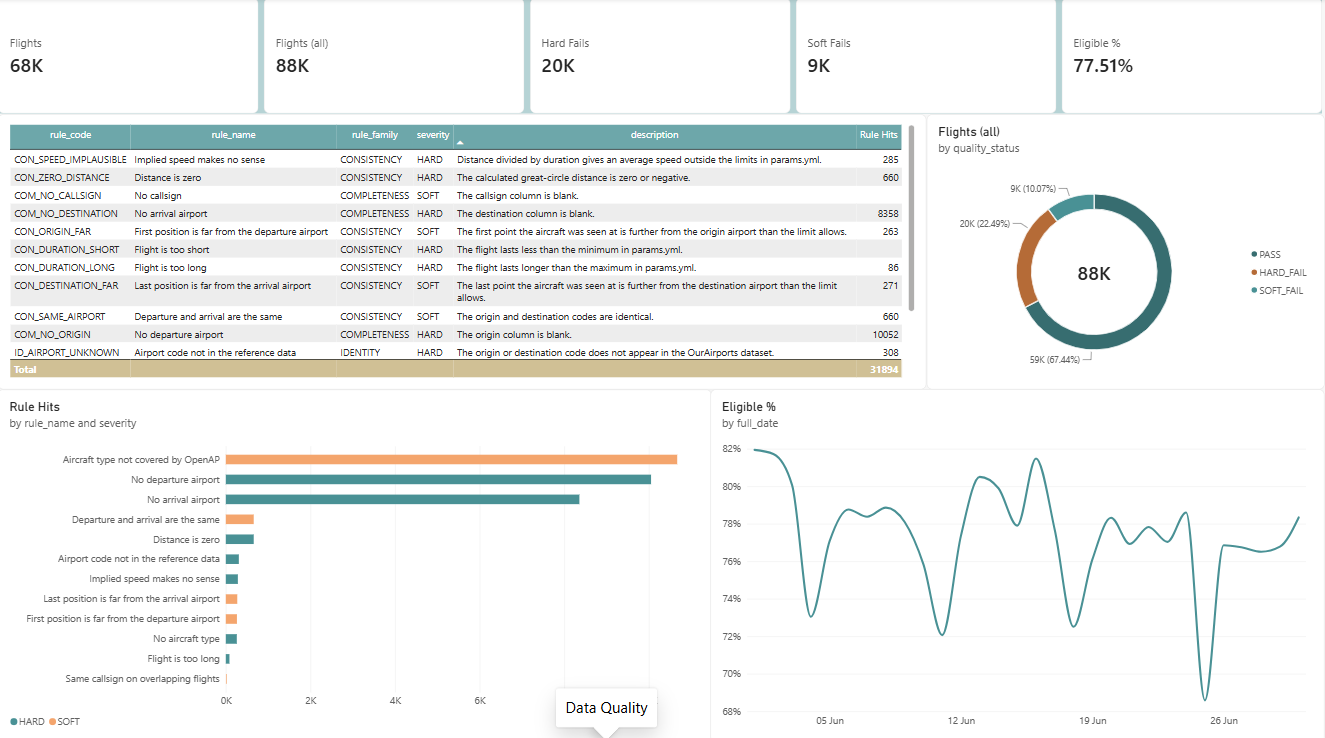

The page's visual inventory and layout, read from the dashboard file:
{"tool":"powerbi","page":{"name":"Data Quality","canvas":[1920,1080],"ordinal":4},"visuals":[{"type":"cardVisual","fields":{"Data":["_Measures.Flights","_Measures.Flights (all)","_Measures.Hard Fails","_Measures.Soft Fails","_Measures.Eligible %"]},"box":[0,0,1920.4,167.8],"z":0},{"type":"donutChart","fields":{"Category":["v_flight_kpi.quality_status"],"Y":["_Measures.Flights (all)"]},"box":[1344.1,168.3,576.3,398.4],"z":1},{"type":"barChart","fields":{"Category":["dim_quality_rule.rule_name"],"Series":["dim_quality_rule.severity"],"Y":["_Measures.Rule Hits"]},"box":[0,566.6,1032.7,512.5],"z":2},{"type":"tableEx","fields":{"Values":["dim_quality_rule.rule_code","dim_quality_rule.rule_name","dim_quality_rule.rule_family","dim_quality_rule.severity","dim_quality_rule.description","_Measures.Rule Hits"]},"box":[0,168.3,1344.1,398.4],"z":3},{"type":"lineChart","fields":{"Category":["dim_date.full_date"],"Y":["_Measures.Eligible %"]},"box":[1031.8,566.1,888.8,511.4],"z":4}]}

Visuals, with their boxes in screenshot pixels (x1, y1, x2, y2), scaled from the page's 1920x1080 canvas onto the 1325x738 screenshot:
cardVisual - _Measures.Flights x _Measures.Flights (all): BBox(0, 0, 1324, 115)
donutChart - v_flight_kpi.quality_status x _Measures.Flights (all): BBox(928, 115, 1324, 387)
barChart - dim_quality_rule.rule_name x dim_quality_rule.severity: BBox(0, 387, 713, 737)
tableEx - dim_quality_rule.rule_code x dim_quality_rule.rule_name: BBox(0, 115, 928, 387)
lineChart - dim_date.full_date x _Measures.Eligible %: BBox(712, 387, 1324, 736)
